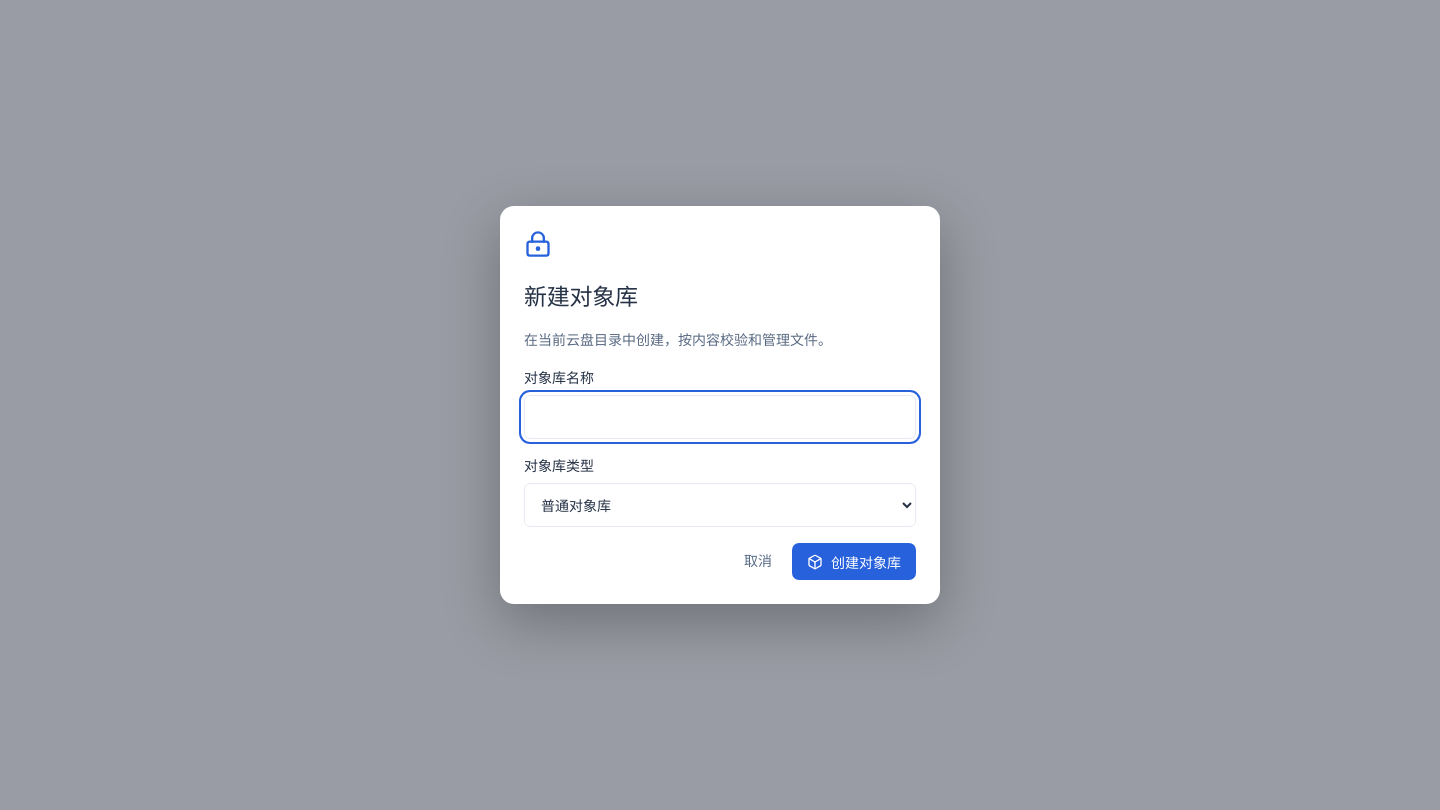
Test: locks the submitted type and all credential controls until a delayed creation fails
In the field labelled "对象库名称": [720, 417] box x1=524 y1=395 x2=916 y2=439, type "延迟创建"
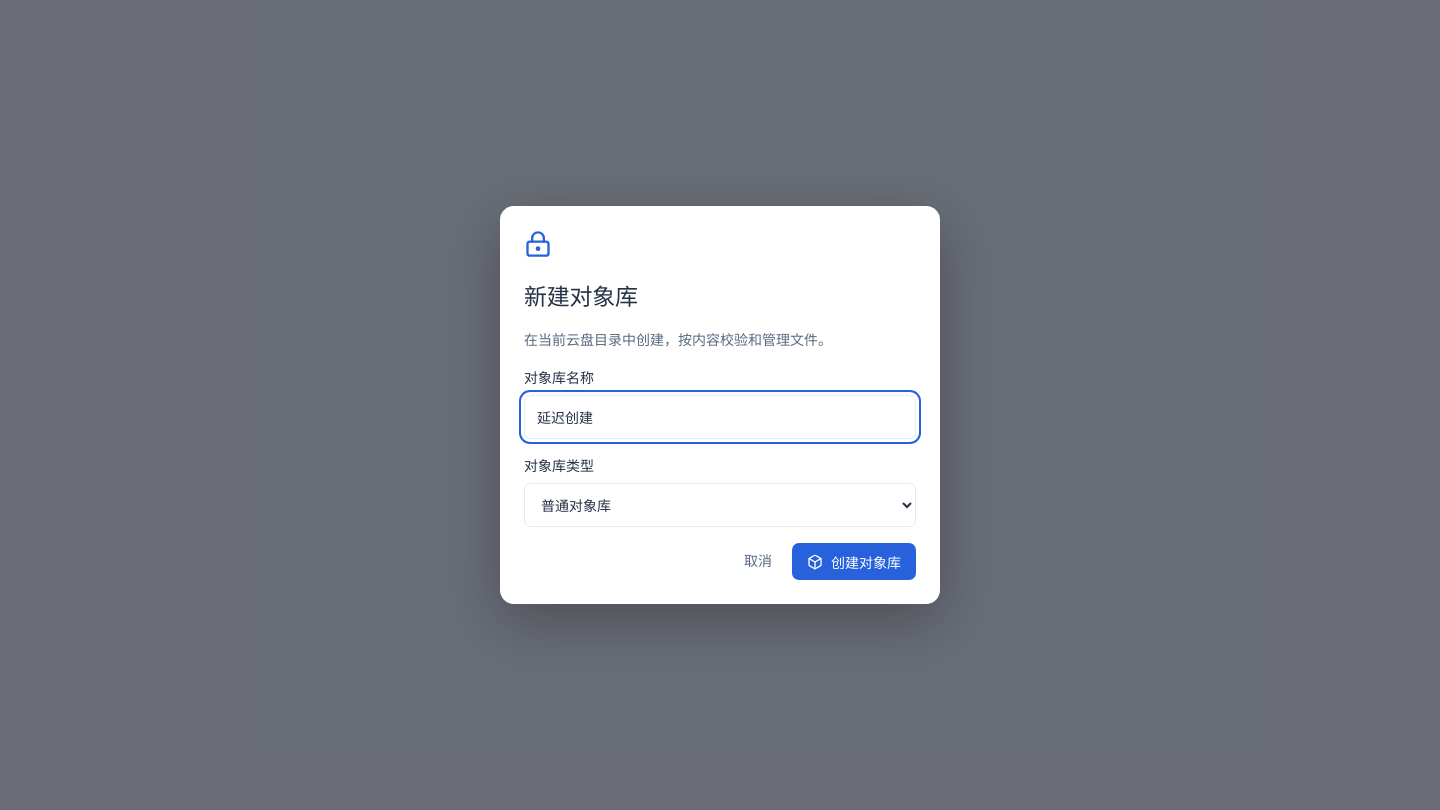
Select "加密对象库" in the dropdown labelled "对象库类型": [720, 505] box x1=524 y1=483 x2=916 y2=527
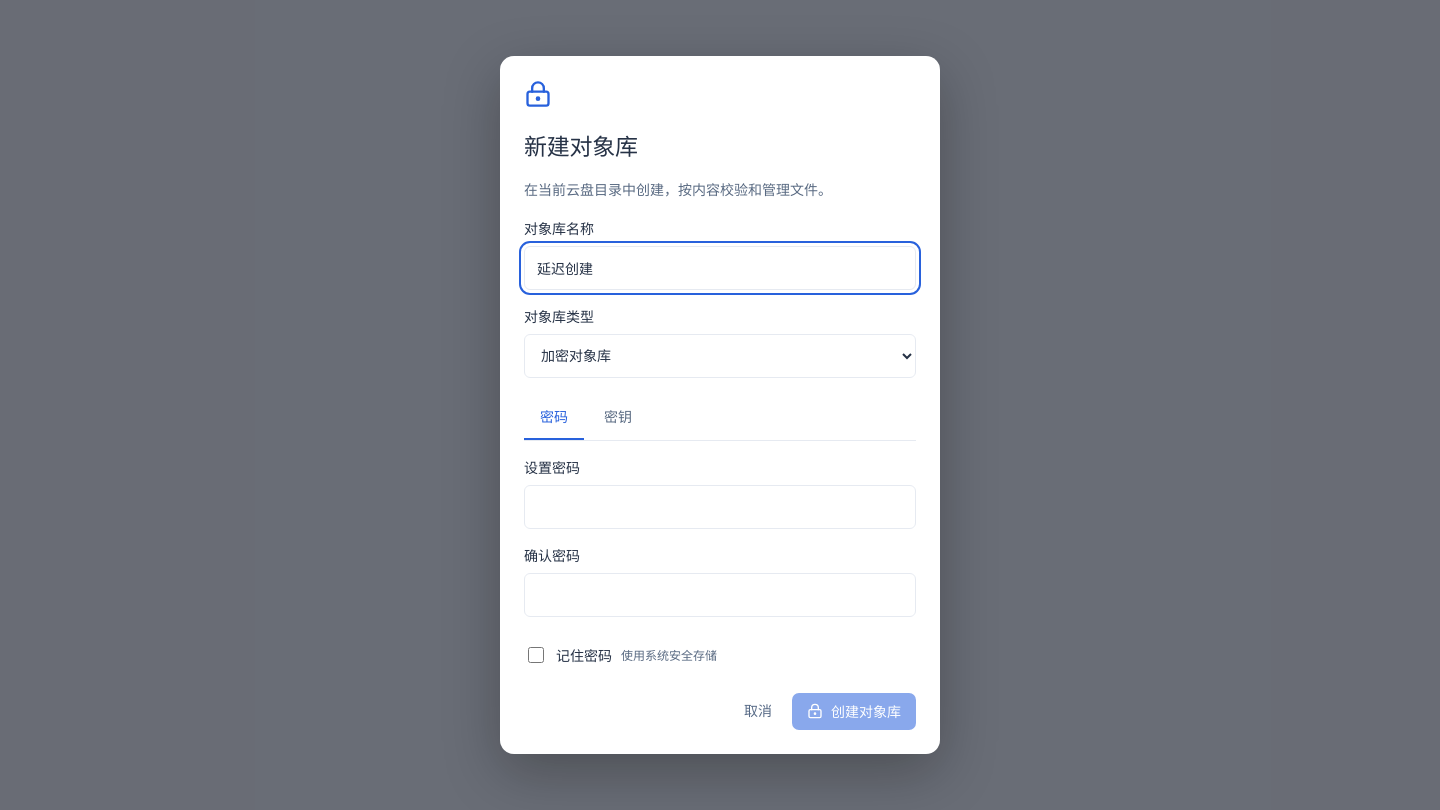
In the password field labelled "设置密码": [720, 506] box x1=524 y1=484 x2=916 y2=528, type "pending-password"
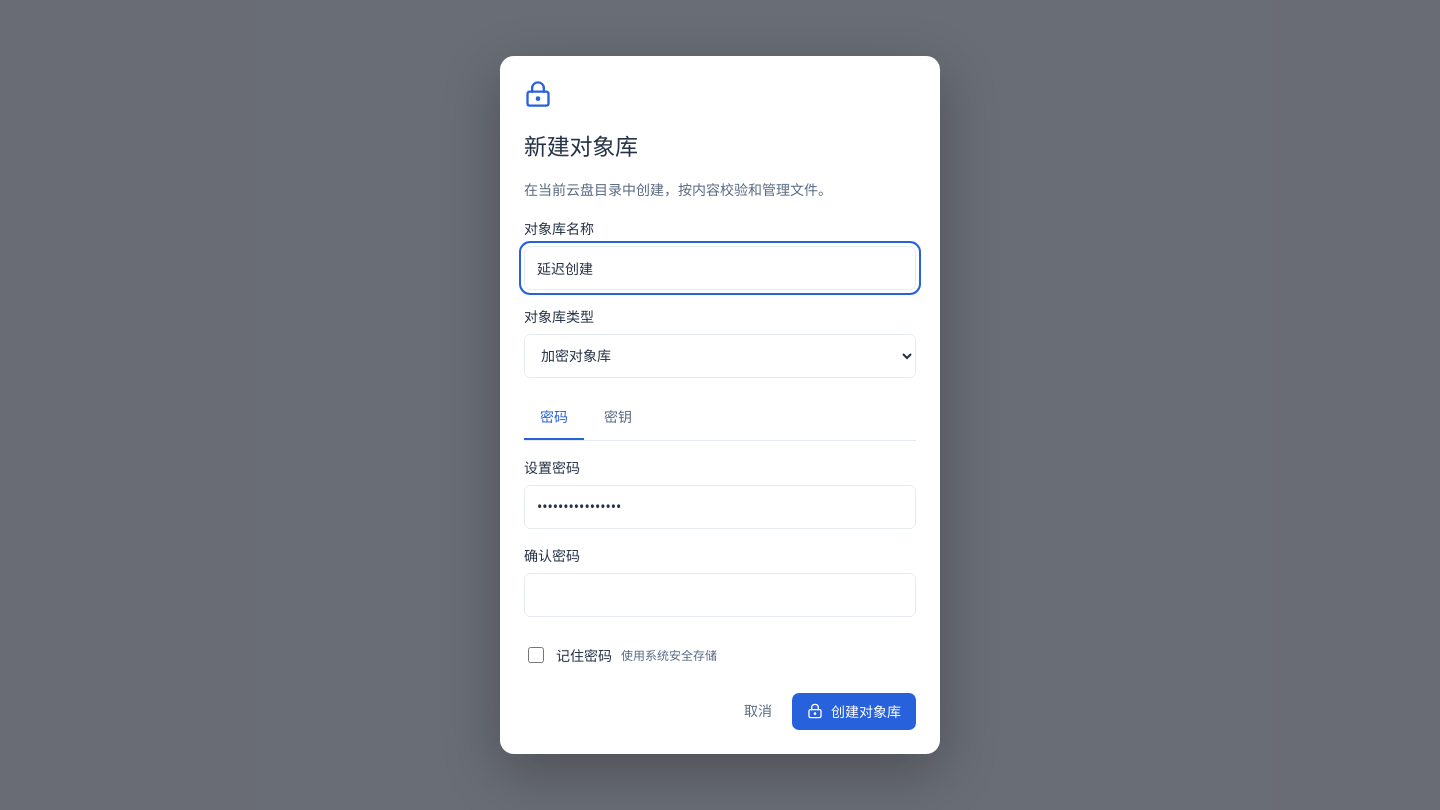
In the password field labelled "确认密码": [720, 594] box x1=524 y1=572 x2=916 y2=616, type "pending-password"
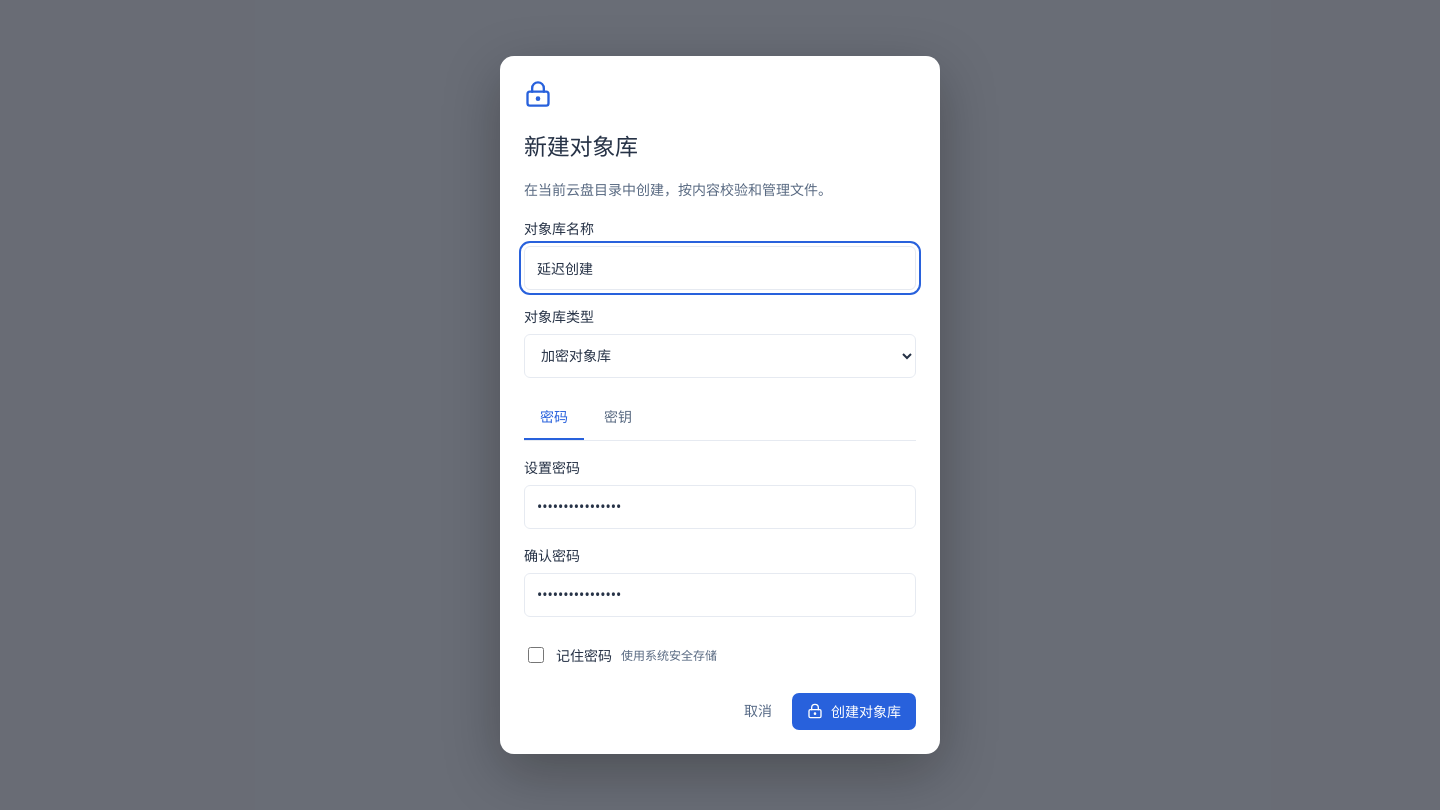
Click the button "创建对象库": [854, 711] box x1=792 y1=692 x2=916 y2=730
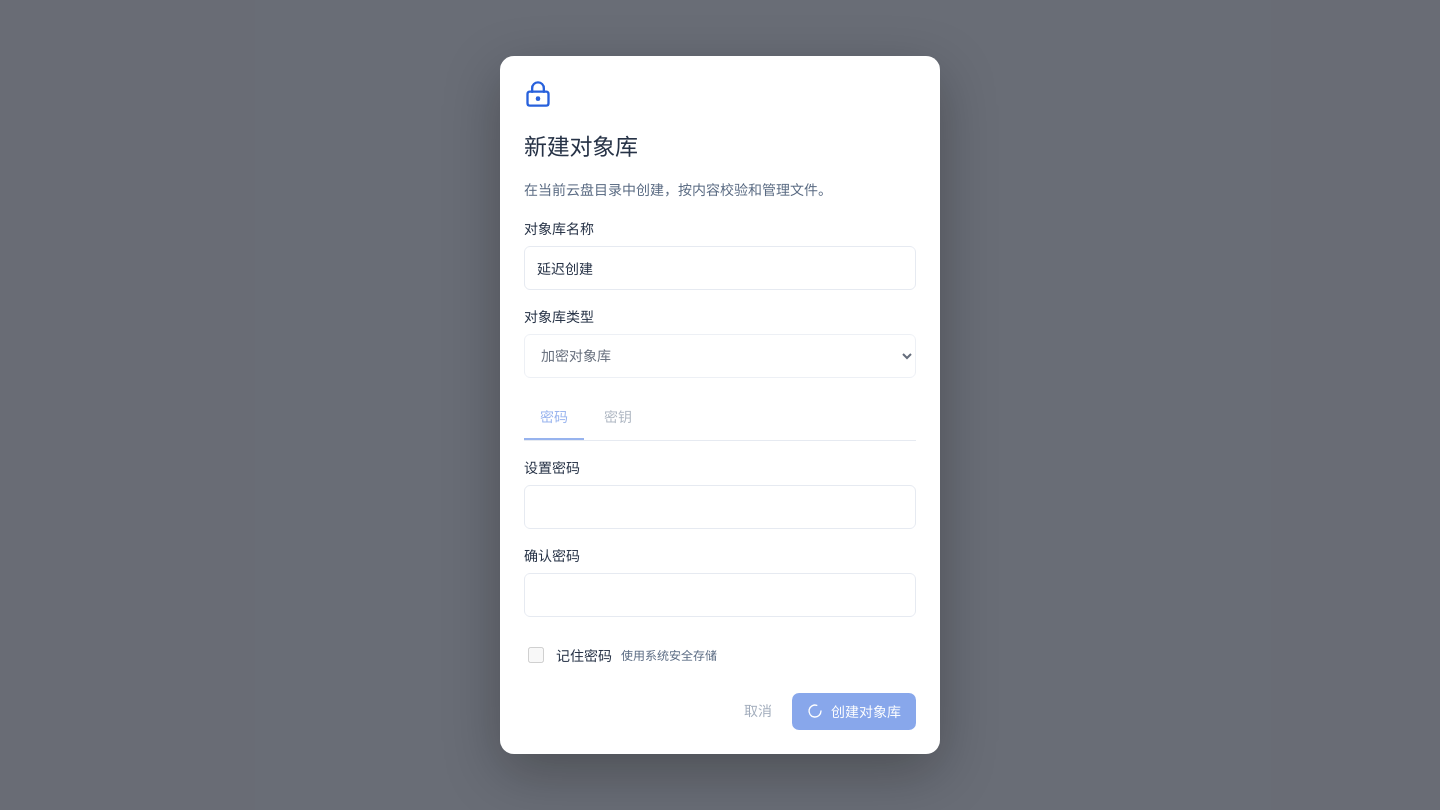
Expected: the dropdown labelled "对象库类型" is disabled, x1=524 y1=334 x2=916 y2=378
Expected: the password field labelled "设置密码" is disabled, x1=524 y1=484 x2=916 y2=528
Expected: the password field labelled "确认密码" is disabled, x1=524 y1=572 x2=916 y2=616
Click the button "密钥": [618, 416] box x1=588 y1=394 x2=648 y2=440
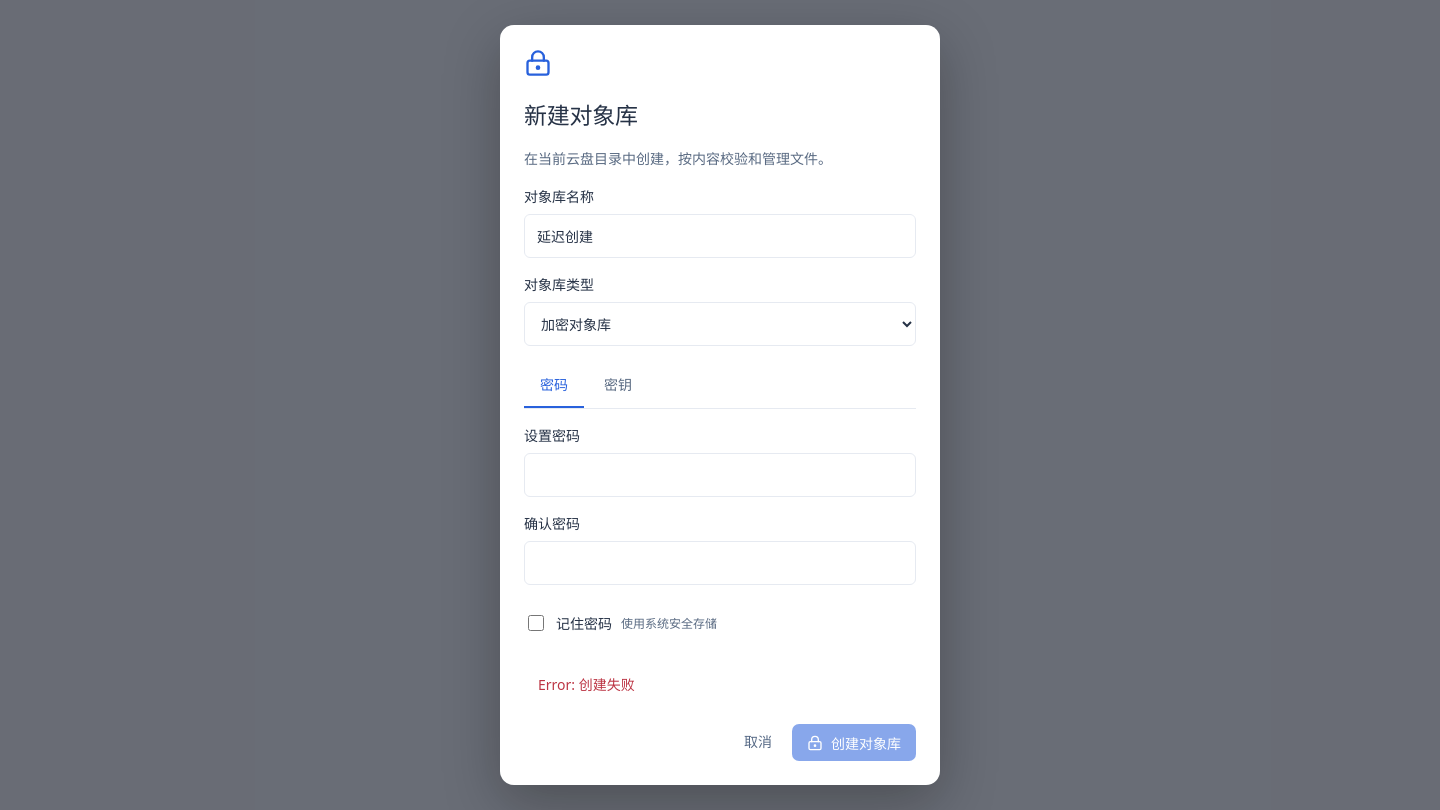
Expected: the message shows "创建失败", x1=538 y1=675 x2=635 y2=694
Expected: the button "密钥" is enabled, x1=588 y1=362 x2=648 y2=408
